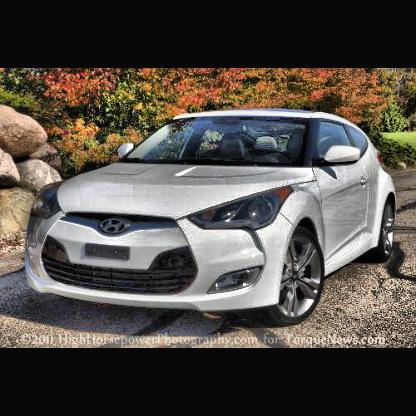Hyundai Veloster Hatchback 2012: (25, 109, 401, 329)
